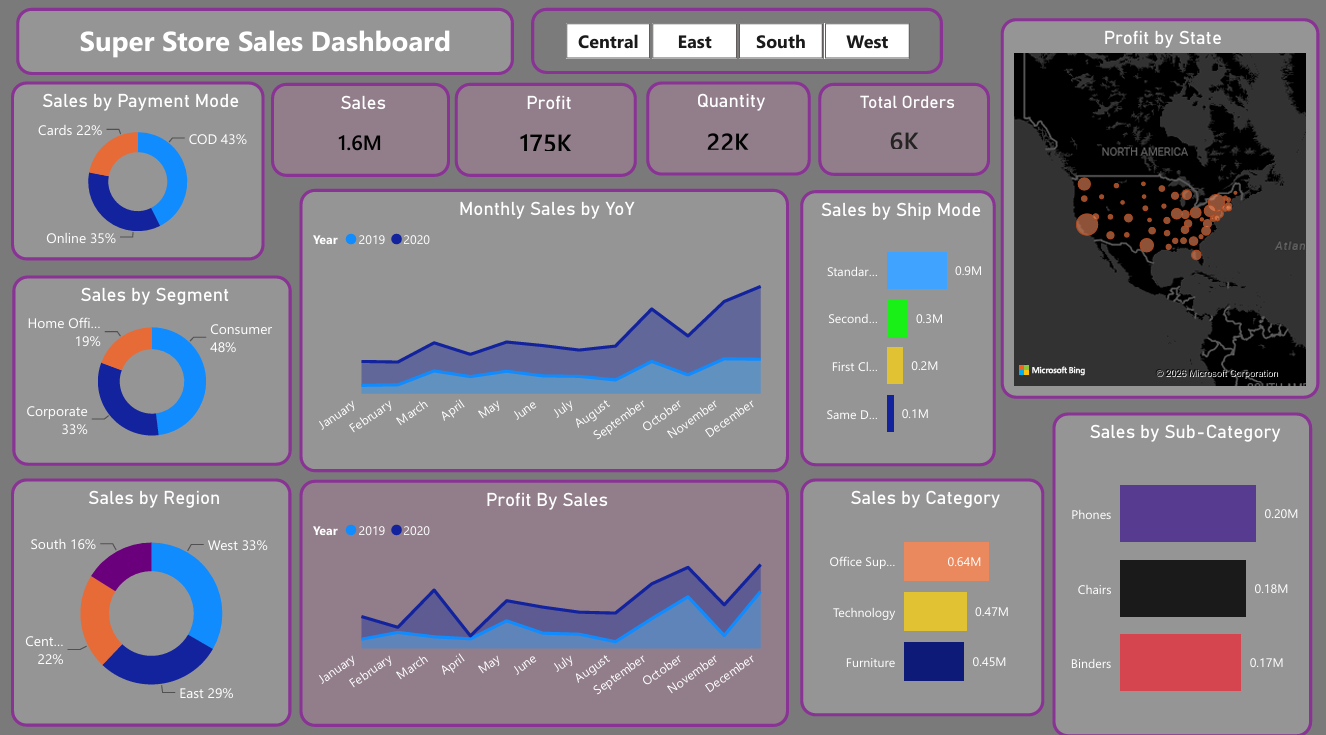

This screenshot's page, from the dashboard's own definition file:
{"tool":"powerbi","page":{"name":"Page 1","canvas":[1280,720],"ordinal":0},"visuals":[{"type":"clusteredBarChart","title":" Sales by Ship Mode","fields":{"Category":["SuperStore_Sales_Dataset.Ship Mode"],"Y":["Sum(SuperStore_Sales_Dataset.Sales)"]},"box":[774.5,183.4,189.4,266.6],"z":1000},{"type":"clusteredBarChart","title":" Sales by Category","fields":{"Category":["SuperStore_Sales_Dataset.Category"],"Y":["Sum(SuperStore_Sales_Dataset.Sales)"]},"box":[774.5,462.1,236.5,230.4],"z":2000},{"type":"stackedAreaChart","title":"Monthly Sales by YoY","fields":{"Category":["SuperStore_Sales_Dataset.Order Date.Variation.Date Hierarchy.Month"],"Y":["Sum(SuperStore_Sales_Dataset.Sales)"],"Series":["SuperStore_Sales_Dataset.Order Date.Variation.Date Hierarchy.Year"]},"box":[291.2,182.5,472.5,273.8],"z":3000},{"type":"stackedAreaChart","title":"Profit By Sales","fields":{"Category":["SuperStore_Sales_Dataset.Order Date.Variation.Date Hierarchy.Month"],"Series":["SuperStore_Sales_Dataset.Order Date.Variation.Date Hierarchy.Year"],"Y":["Sum(SuperStore_Sales_Dataset.Profit)"]},"box":[291.2,463.8,472.5,238.8],"z":4000},{"type":"map","title":"Profit by State","fields":{"Category":["SuperStore_Sales_Dataset.State"],"Size":["Sum(SuperStore_Sales_Dataset.Sales)"]},"box":[968.8,18.1,307.6,368],"z":5000},{"type":"donutChart","title":" Sales by Segment","fields":{"Category":["SuperStore_Sales_Dataset.Segment"],"Y":["Sum(SuperStore_Sales_Dataset.Sales)"]},"box":[13.8,266.2,270,183.8],"z":6000},{"type":"donutChart","title":" Sales by Payment Mode","fields":{"Category":["SuperStore_Sales_Dataset.Payment Mode"],"Y":["Sum(SuperStore_Sales_Dataset.Sales)"]},"box":[12.5,78.8,245,172.5],"z":7000},{"type":"slicer","fields":{"Values":["SuperStore_Sales_Dataset.Region"]},"box":[515,7.5,397.5,63.8],"z":8000},{"type":"textbox","box":[17.5,7.5,481.2,65],"z":9000},{"type":"cardVisual","title":"Sales","fields":{"Data":["Sum(SuperStore_Sales_Dataset.Sales)"]},"box":[263.8,80,172.5,91.2],"z":10000},{"type":"cardVisual","title":"Profit","fields":{"Data":["Sum(SuperStore_Sales_Dataset.Profit)"]},"box":[441.2,80,176.2,91.2],"z":11000},{"type":"cardVisual","title":"Quantity","fields":{"Data":["Sum(SuperStore_Sales_Dataset.Quantity)"]},"box":[626.2,78.8,158.8,91.2],"z":12000},{"type":"donutChart","title":"Sales  by Region","fields":{"Y":["Sum(SuperStore_Sales_Dataset.Sales)"],"Category":["SuperStore_Sales_Dataset.Region"]},"box":[12.5,462.5,271.2,240],"z":14000},{"type":"clusteredBarChart","title":" Sales by Sub-Category","fields":{"Category":["SuperStore_Sales_Dataset.Sub-Category"],"Y":["Sum(SuperStore_Sales_Dataset.Sales)"]},"box":[1018.2,398.1,250.9,313.7],"z":14001},{"type":"cardVisual","title":"Total Orders","fields":{"Data":["CountNonNull(SuperStore_Sales_Dataset.Total Orders)"]},"box":[792.5,80,166.2,90],"z":14002}]}

Visuals, with their boxes in screenshot pixels (x1, y1, x2, y2), scaled from the page's 1280x720 canvas onto the 1326x735 screenshot:
" Sales by Ship Mode" clusteredBarChart: 802 187 999 459
" Sales by Category" clusteredBarChart: 802 472 1047 707
"Monthly Sales by YoY" stackedAreaChart: 302 186 791 466
"Profit By Sales" stackedAreaChart: 302 473 791 717
"Profit by State" map: 1004 18 1322 394
" Sales by Segment" donutChart: 14 272 294 459
" Sales by Payment Mode" donutChart: 13 80 267 257
slicer - SuperStore_Sales_Dataset.Region: 534 8 945 73
textbox: 18 8 517 74
"Sales" cardVisual: 273 82 452 175
"Profit" cardVisual: 457 82 640 175
"Quantity" cardVisual: 649 80 813 174
"Sales  by Region" donutChart: 13 472 294 717
" Sales by Sub-Category" clusteredBarChart: 1055 406 1315 727
"Total Orders" cardVisual: 821 82 993 174
